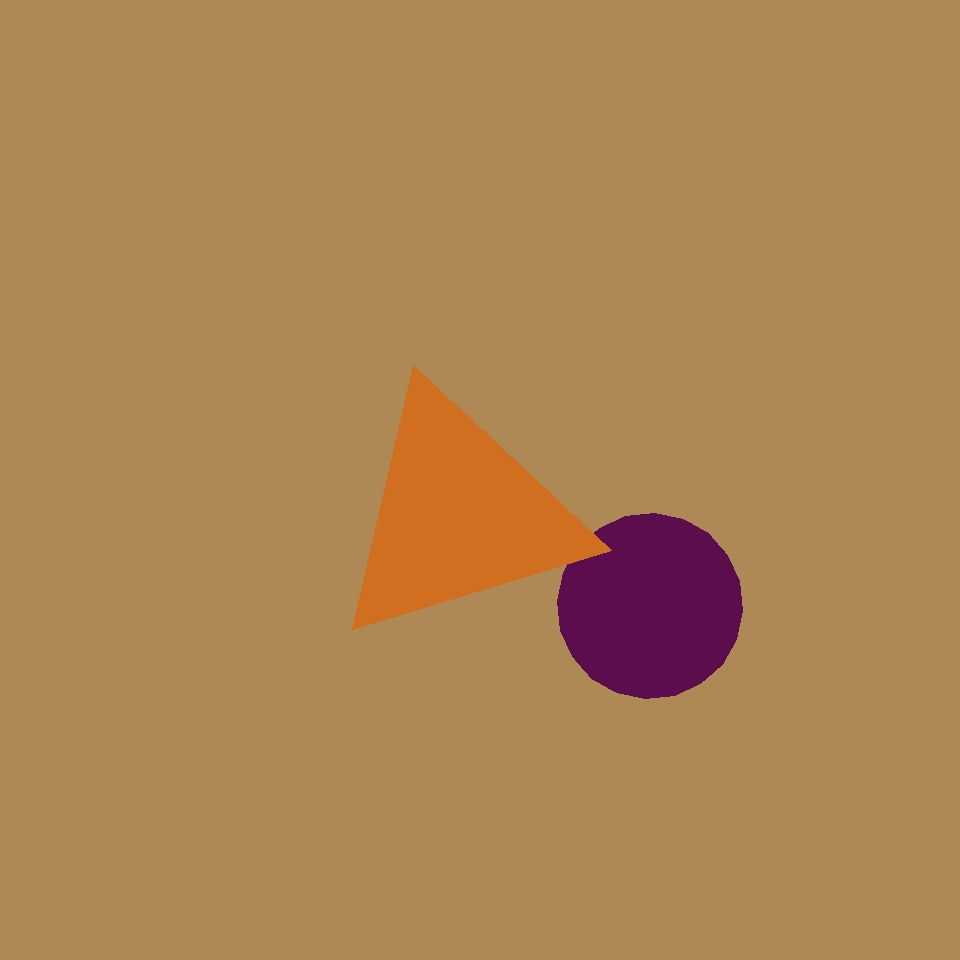circle: (330, 383, 588, 647)
square: (7, 306, 373, 673), (183, 337, 458, 612), (322, 621, 565, 865)
triangle: (158, 147, 487, 475), (558, 514, 742, 698)
